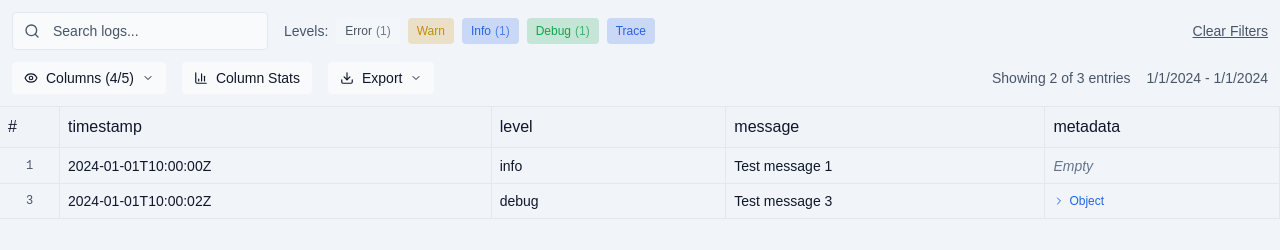
Test: JsonLogViewer › should handle export functionality
Click the button "Export".
click(381, 78)  # box 328,62 -> 434,94
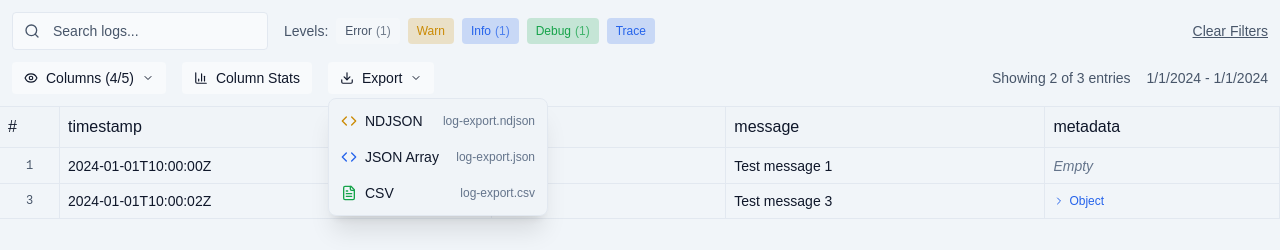
Now the text "NDJSON" is shown, box 365,111 -> 423,131
Now the text "JSON Array" is shown, box 365,147 -> 439,167
Now the text "CSV" is shown, box 365,183 -> 394,203
